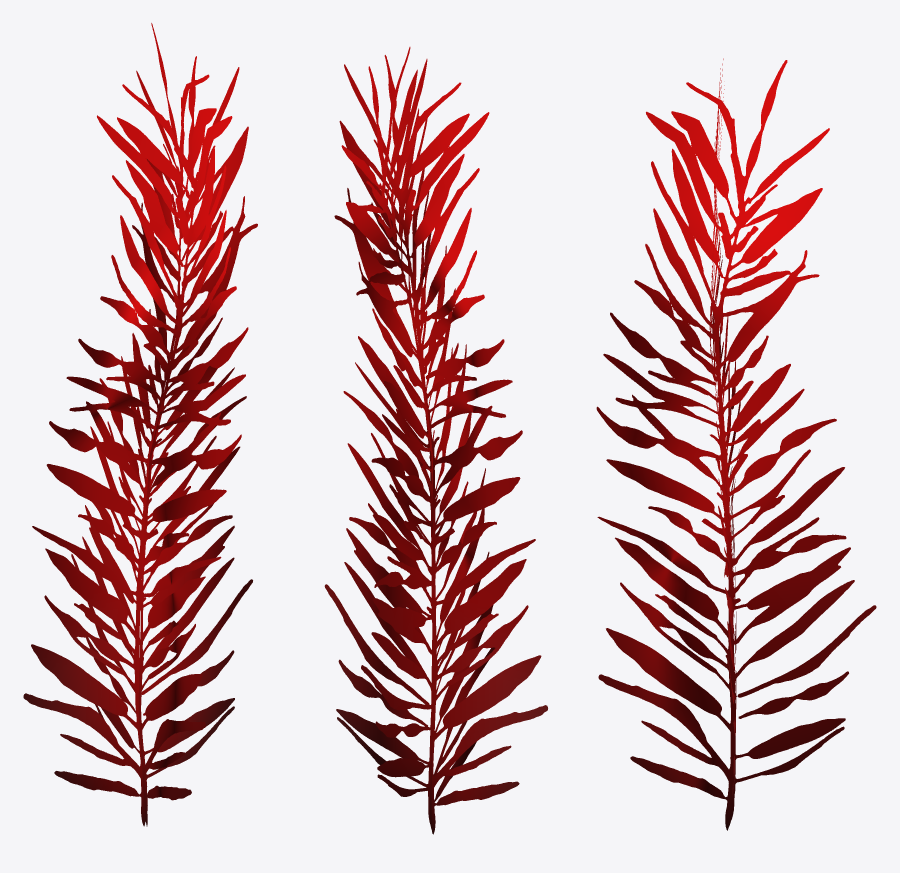
Rendered from seaweed2.fbx.
3 renders of one model, left to right at view 1: azimuth 30°, elevation 25°; view 2: azimuth 150°, elevation 25°; view 3: azimuth 270°, elevation 25°, orthographic.
Visible parts, largest first — view 1: SeaWeed_LOD0; view 2: SeaWeed_LOD0; view 3: SeaWeed_LOD0.
Part boxes in pixels (<box>): SeaWeed_LOD0: <box>23,23,257,826</box>; SeaWeed_LOD0: <box>324,47,547,834</box>; SeaWeed_LOD0: <box>596,58,876,830</box>.
Size of what is drawn, in the model's own units: 111 by 331 by 111.
